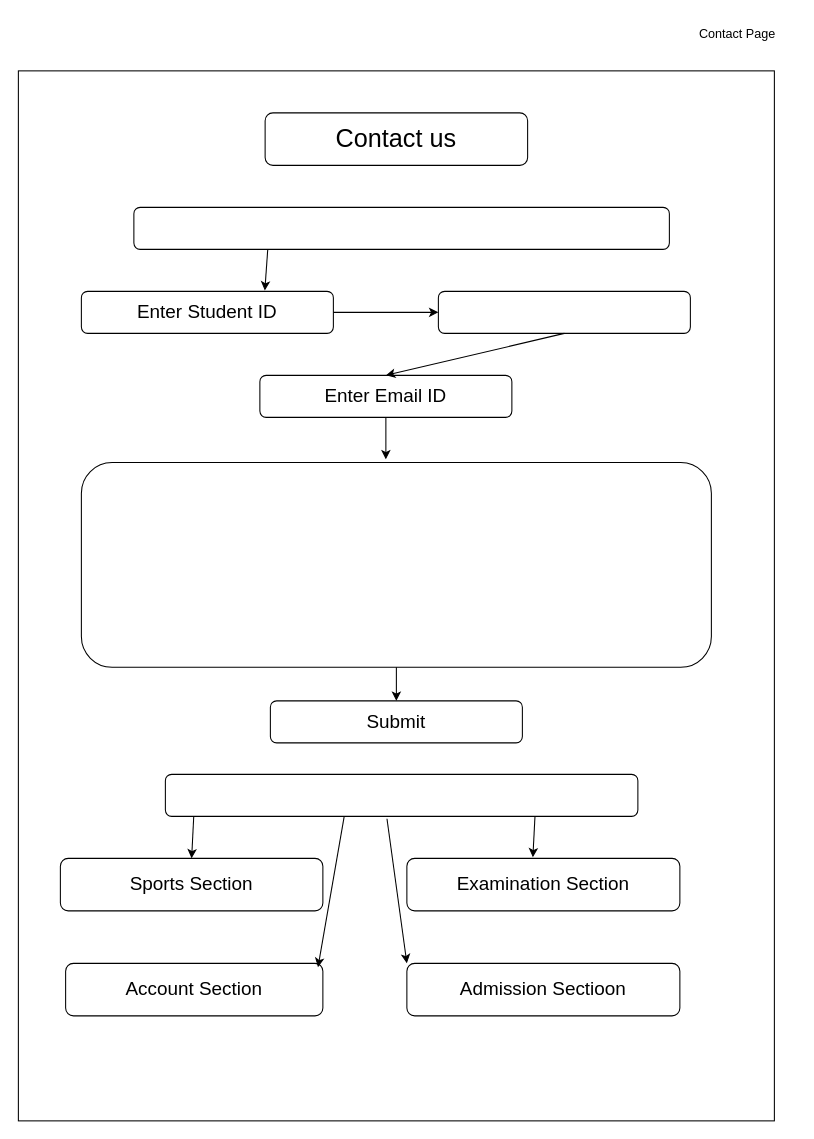
The diagram is 814 pixels wide and 1139 high, and some of its shapes have lost their labels. Here are the shapes that lost their labels. From the top down, the centre of each, then its label:
(401,227): Submit Your quiry and our team will contact you
(563,311): Enter Mobile Number
(395,564): Enter Your Quiry here
(401,794): For other quiry you can contact these persons
